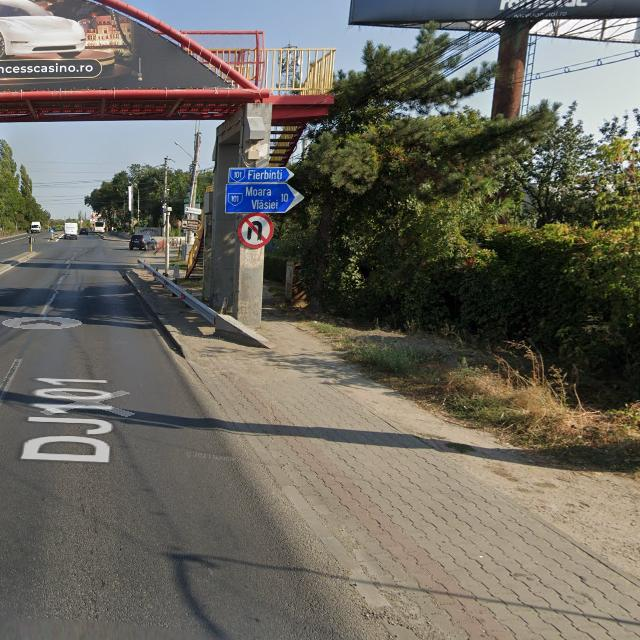forb_u_turn: (238, 212, 274, 250)
